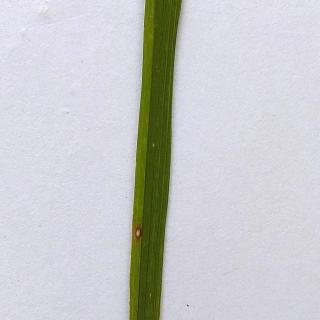Blast: (133, 220, 143, 248)
